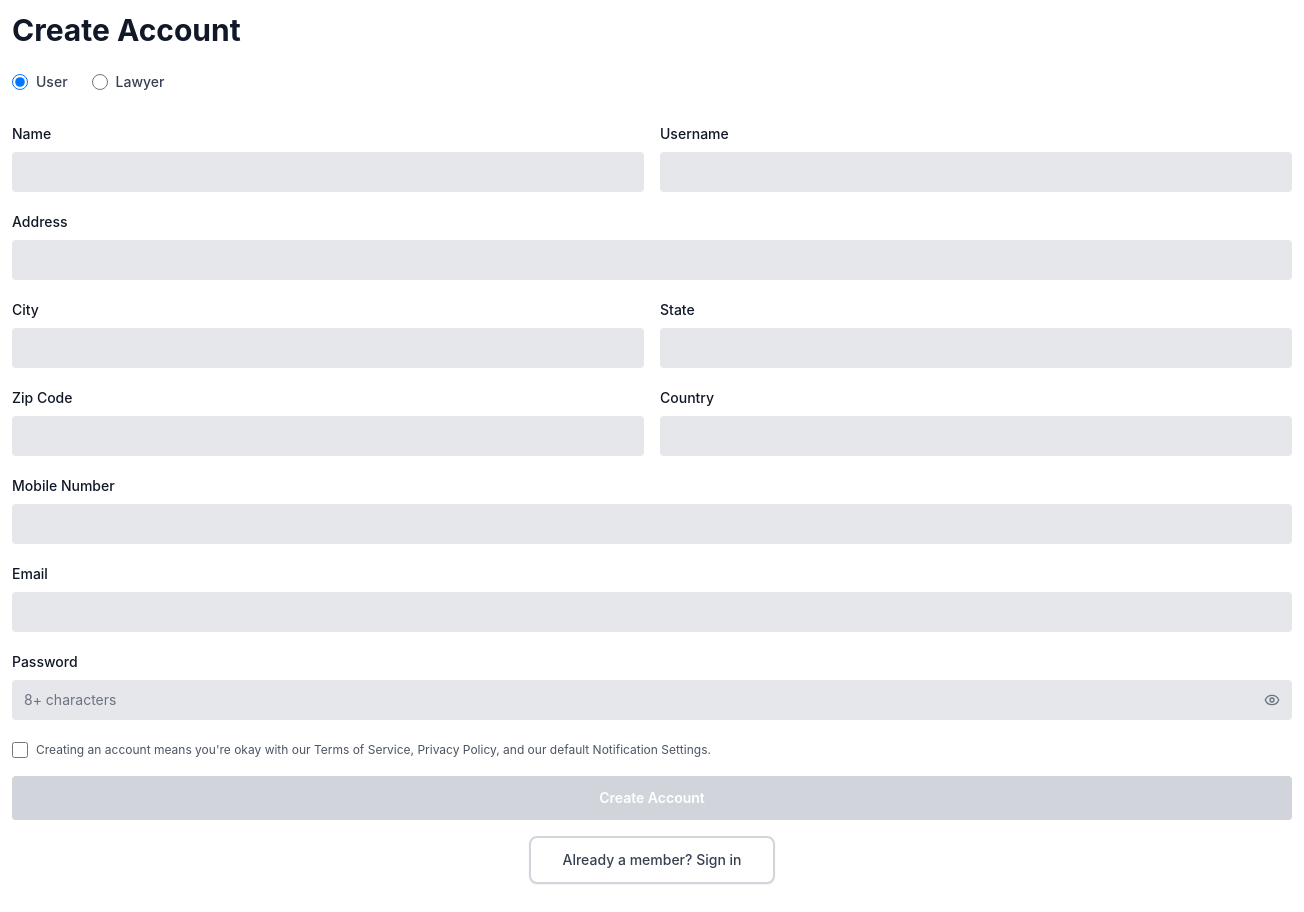
Test case: AuthForm Password Validation › shows "Required" error for empty password
The width and height of the screenshot is (1304, 912).
Type "a" into the password field with placeholder "8+ characters".
click(652, 700); type("a")  # box [12,680,1292,720]
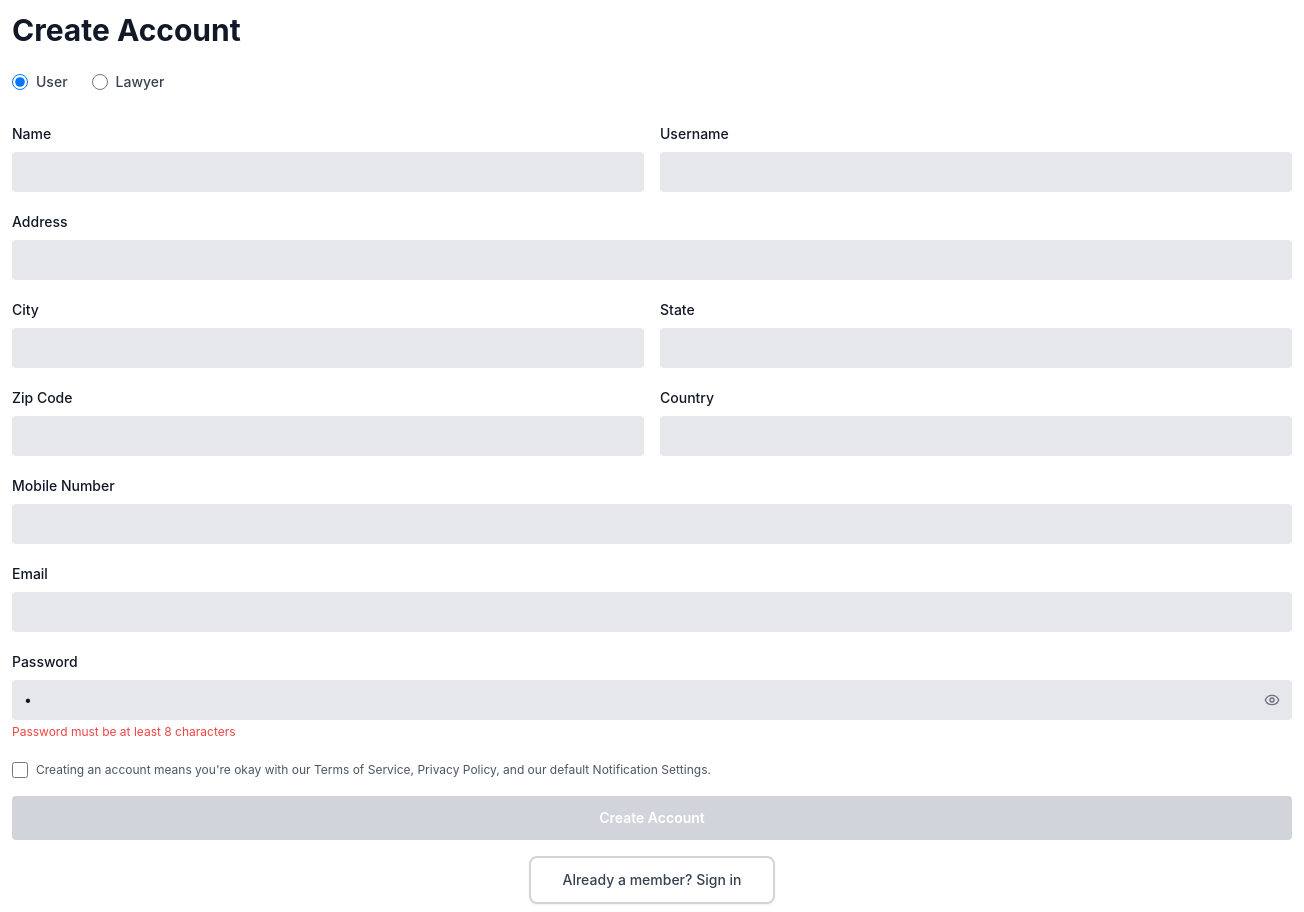
Clear the password field with placeholder "8+ characters" at (652, 700), box [12,680,1292,720]
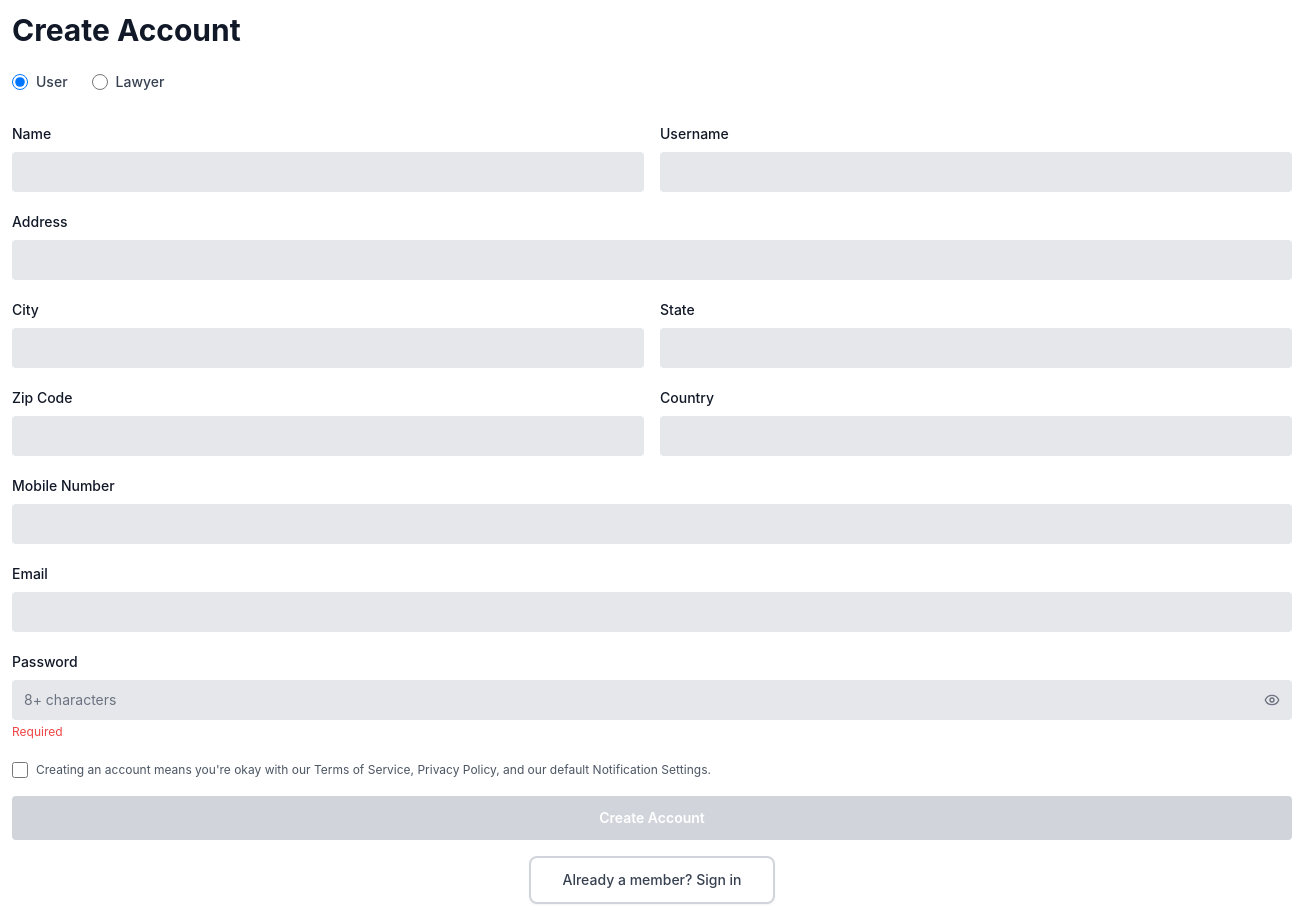
Check: the text "Required" is shown, box [12,724,63,739]
